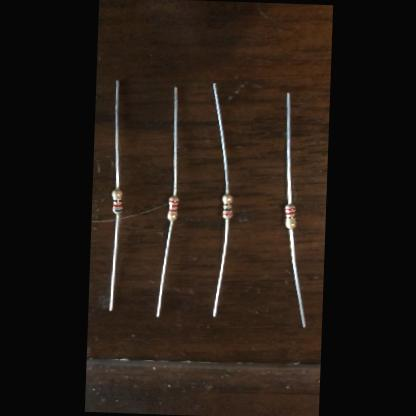resistor: (284, 204, 296, 228), (221, 194, 233, 218), (110, 189, 122, 213), (168, 196, 178, 220)
wire: (208, 82, 233, 193), (285, 228, 308, 326), (212, 218, 228, 316), (156, 219, 172, 316), (282, 92, 294, 204), (110, 80, 122, 188), (170, 86, 180, 196), (108, 214, 118, 310)
